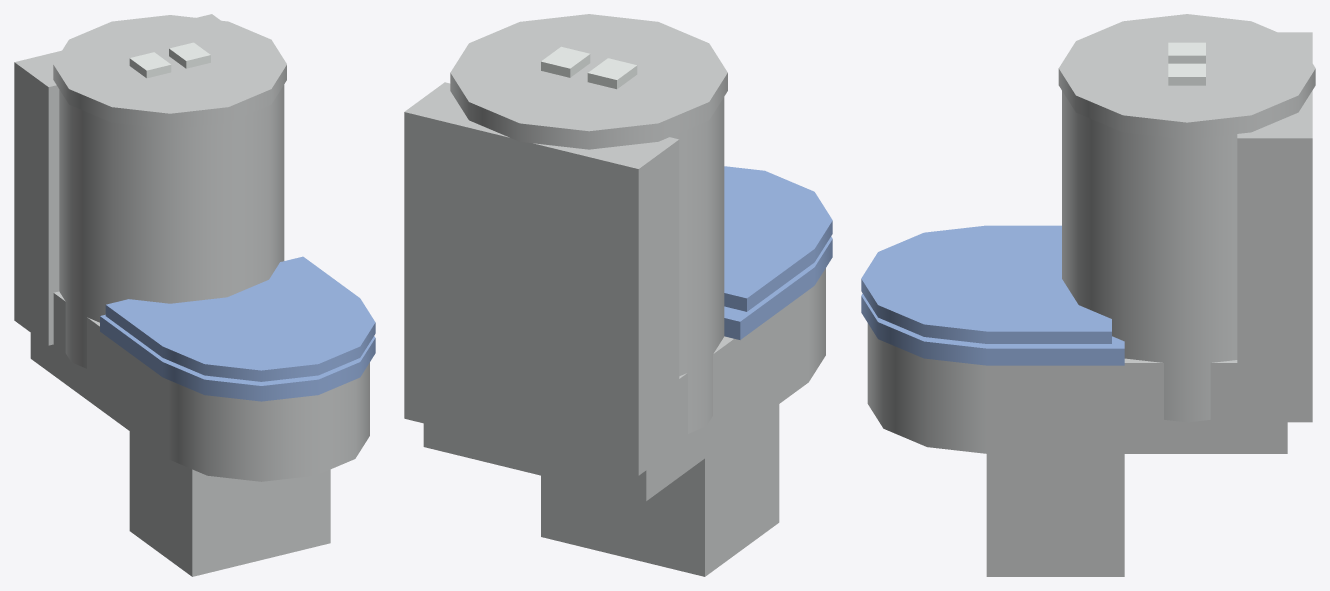
The model's file is toiletRound.glb.
3 views of the same model, side by side, from view 1: azimuth 30°, elevation 25°; view 2: azimuth 150°, elevation 25°; view 3: azimuth 270°, elevation 25° (orthographic). The views are drawn at different scales.
Parts seen in each view (by area): view 1: toiletRound, anim:lid; view 2: toiletRound, anim:lid; view 3: toiletRound, anim:lid.
Part boxes in pixels (x1,y1,x2,y2): toiletRound: (14, 14, 375, 576); anim:lid: (105, 256, 375, 381); toiletRound: (404, 14, 832, 576); anim:lid: (724, 166, 832, 311); toiletRound: (861, 14, 1315, 576); anim:lid: (861, 225, 1111, 343).
Size of the model in its own units: 0.205 by 0.4225 by 0.3625.
